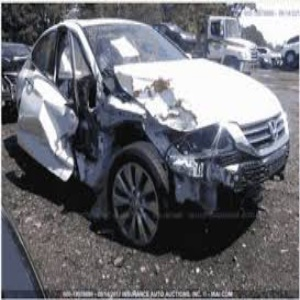bonnet: (127, 68, 206, 129)
bumper: (173, 159, 257, 233)
